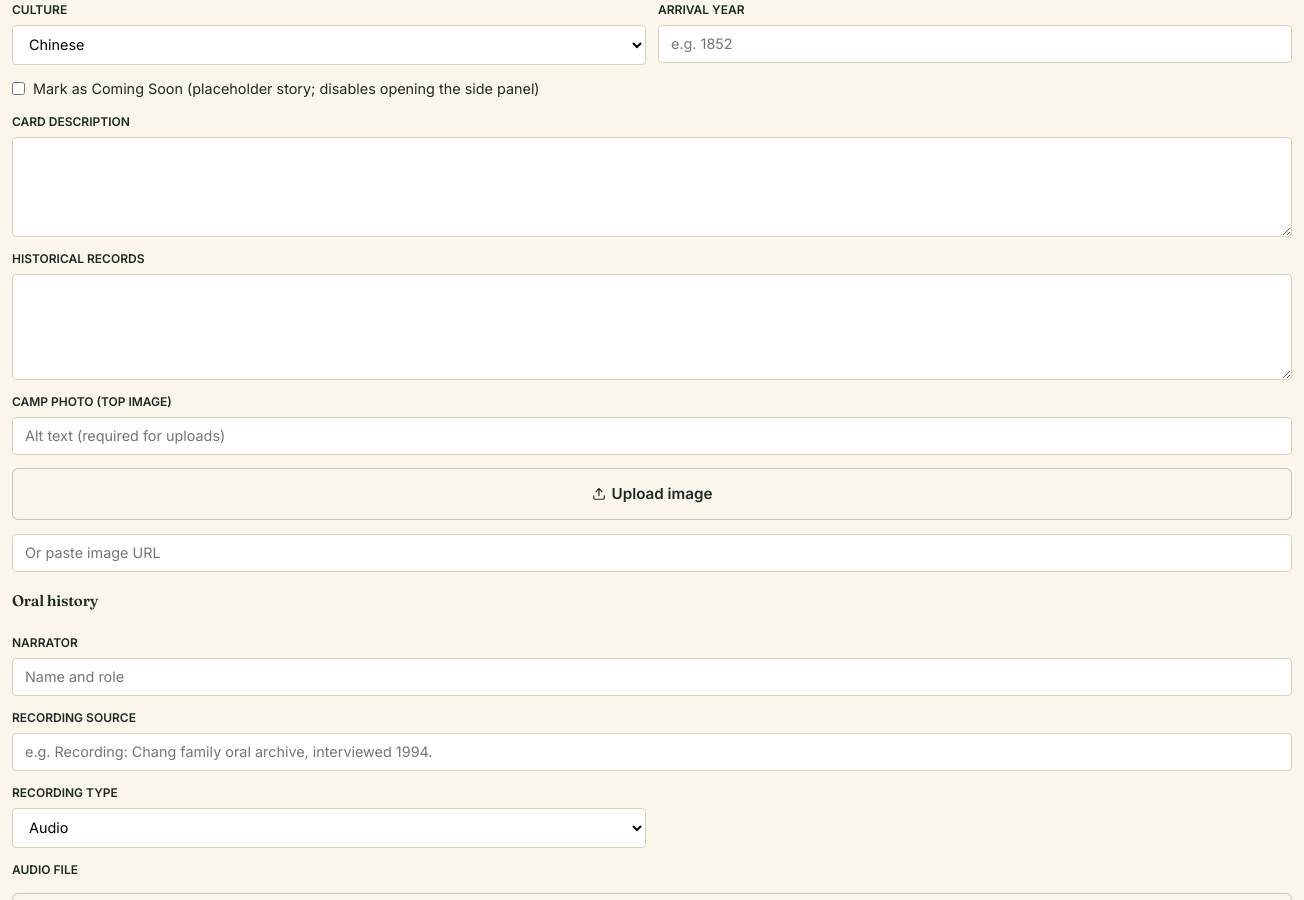
Test: CampStoryFields oral history media › switches to video and records the choice in metadata
The image size is (1304, 900).
Select "Video" in the dropdown labelled "Recording type" at (329, 828), box [12,808,646,848]
(page scrolled)
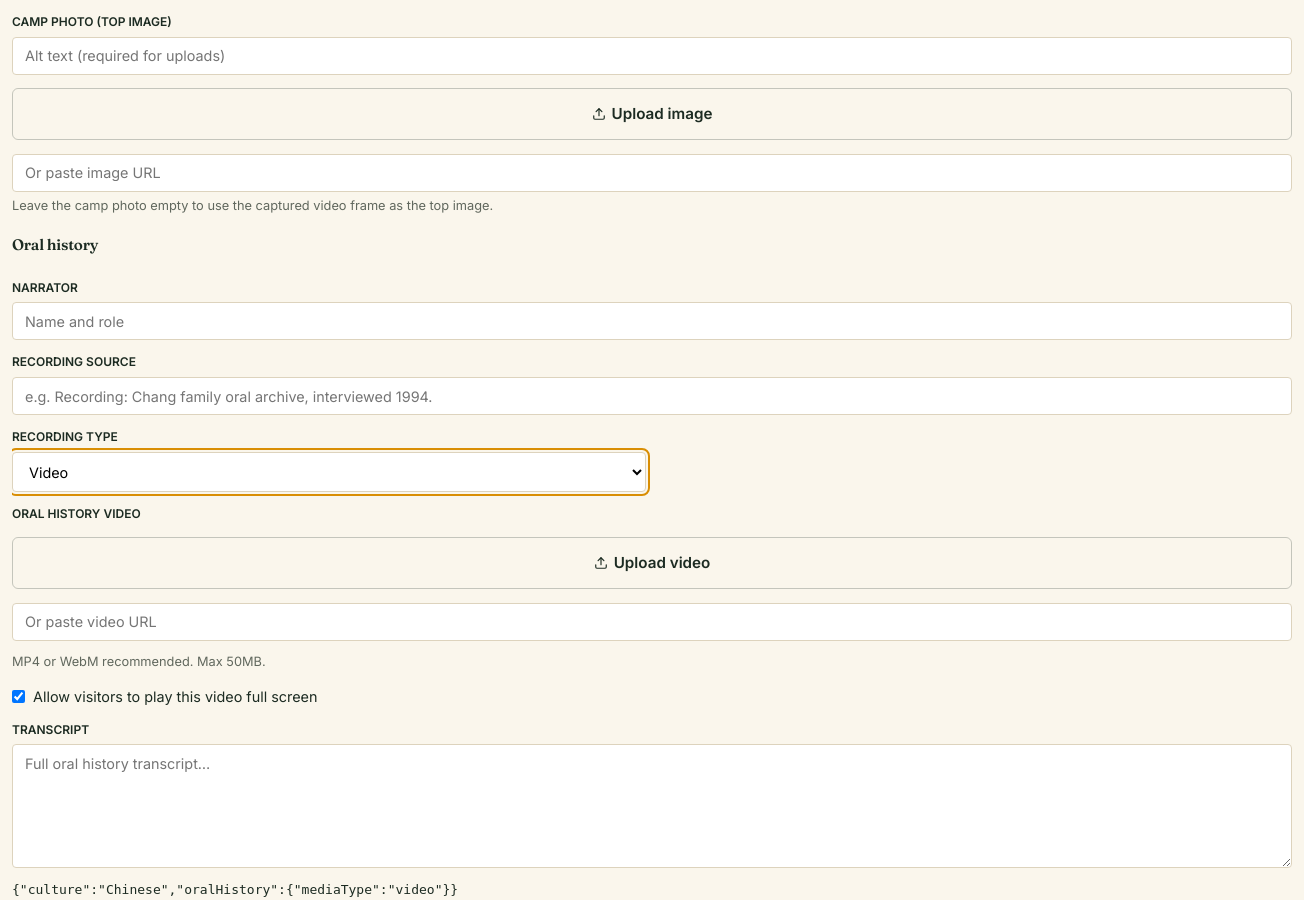
Now the file field "Upload video" is shown, box [12,537,1292,589]
